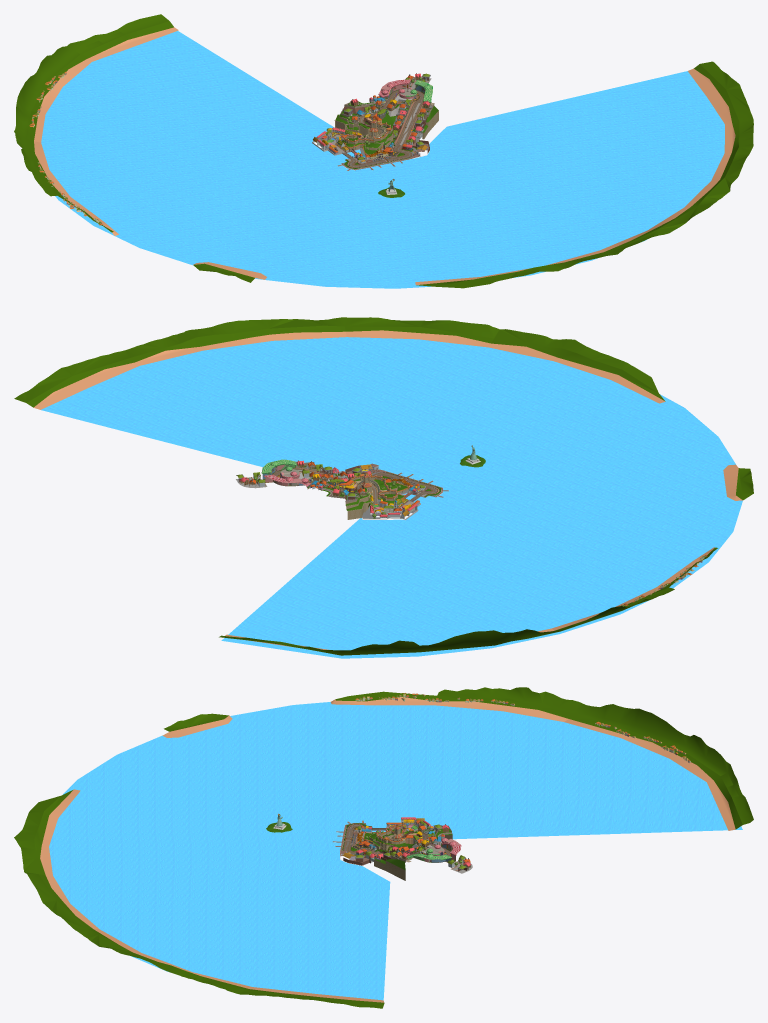
Rendered from track2.glb.
3 views of the same model, one above another, from view 1: azimuth 30°, elevation 25°; view 2: azimuth 150°, elevation 25°; view 3: azimuth 270°, elevation 25° (orthographic). The views are drawn at different scales.
Visible parts, largest first — view 1: skfb_offset; view 2: skfb_offset; view 3: skfb_offset.
Boxes of the visible parts, x1,y1,x2,y2 form: skfb_offset: (14,14,753,288); skfb_offset: (14,317,753,658); skfb_offset: (14,687,753,1008).
Bounding box in the file's own units: 41186 × 1664 × 40569.
Materials: 84 (81 with a texture image).
